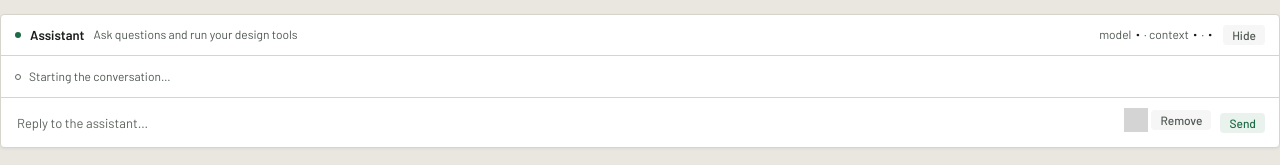
Test: conversation issue sweep › S1-44 keeps unreadable image errors with removable attachments
Click the button "Send".
click(1243, 123)  # box top-left (1220, 113), bottom-right (1265, 133)
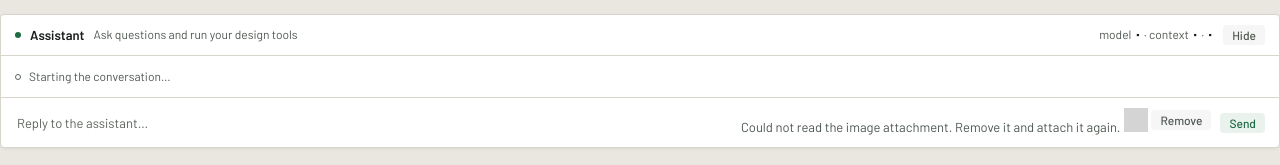
Expected: the button with aria-label "Remove image attachment" is shown, top-left (1151, 110), bottom-right (1211, 130)
Expected: the message shows "Remove it and attach it again.", top-left (741, 119), bottom-right (1120, 135)
